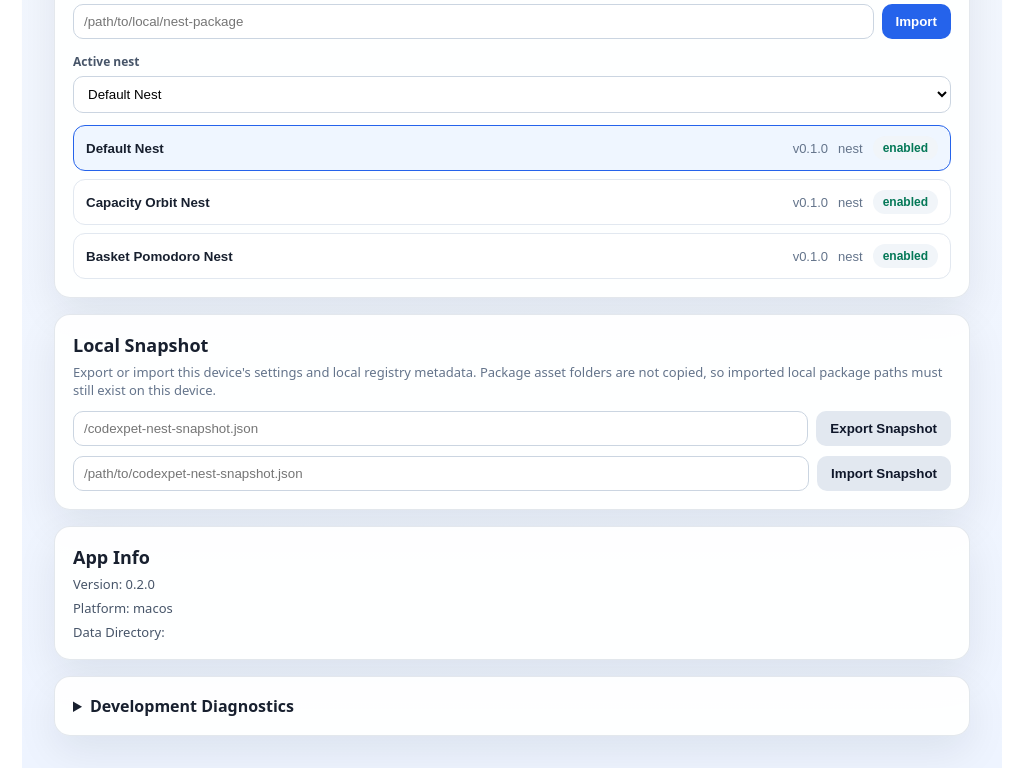
Test: SettingsApp › should import local snapshot and reload local stores
(page scrolled)
Type "/tmp/codexpet-nest-snapshot.json" into the field named "Local snapshot import path" at (441, 474), box [73,456,809,491]
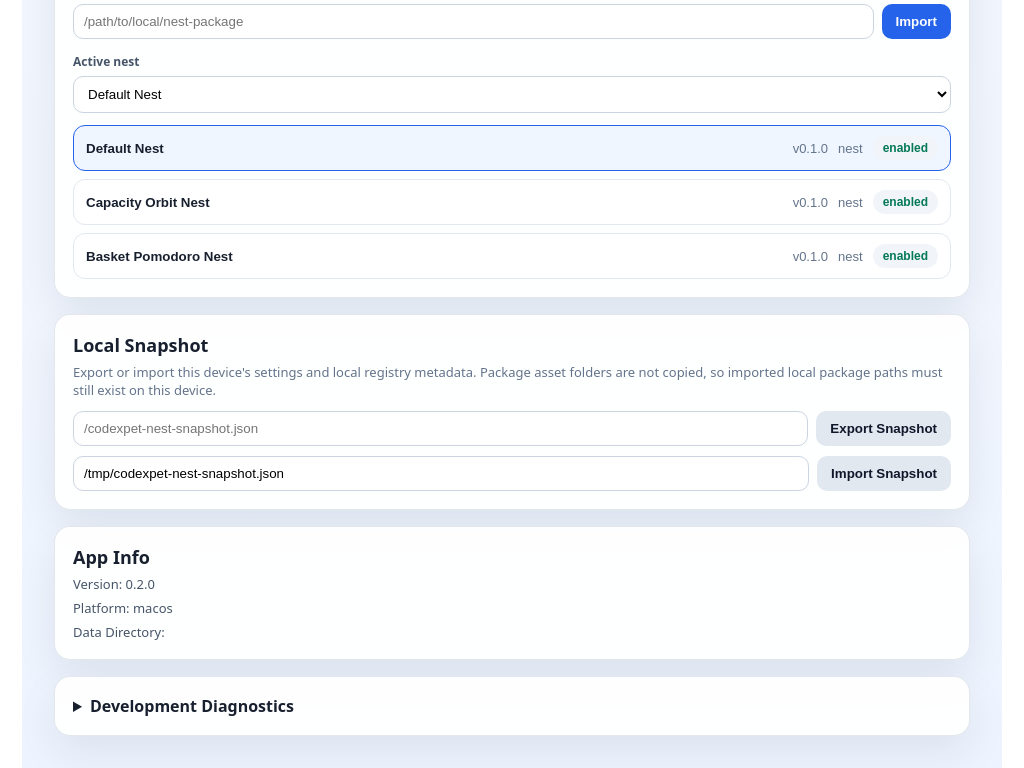
Click the button "Import Snapshot" at (884, 474), box [817,456,951,491]
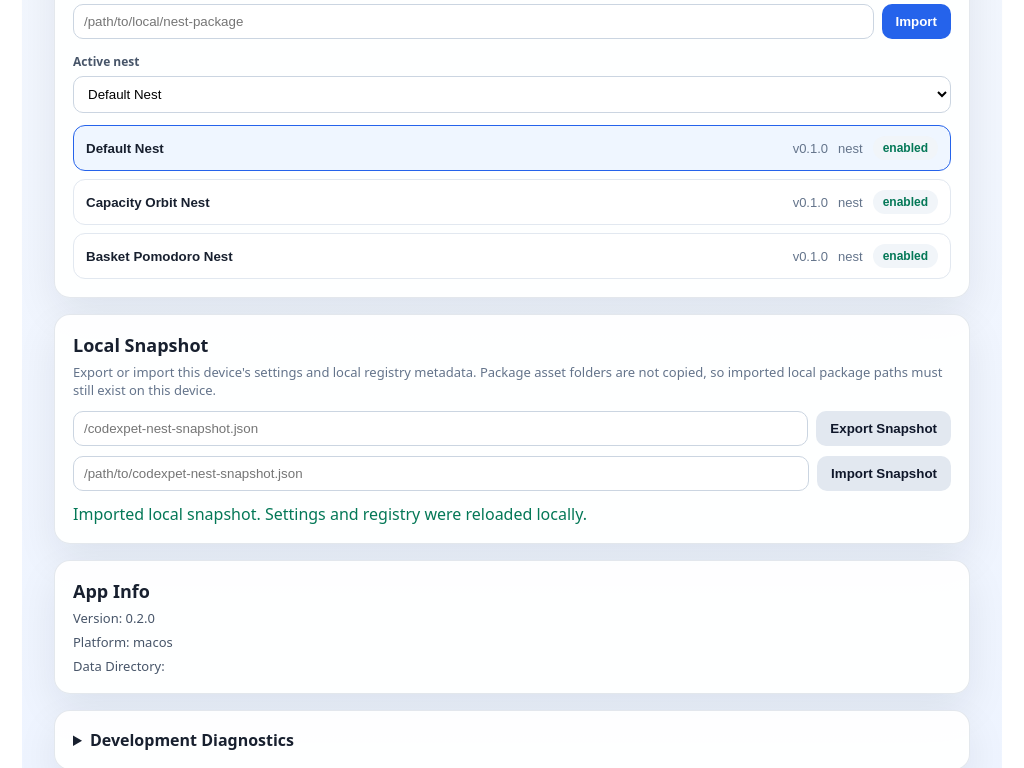
Now the message shows "Imported local snapshot", box [73,503,587,525]
